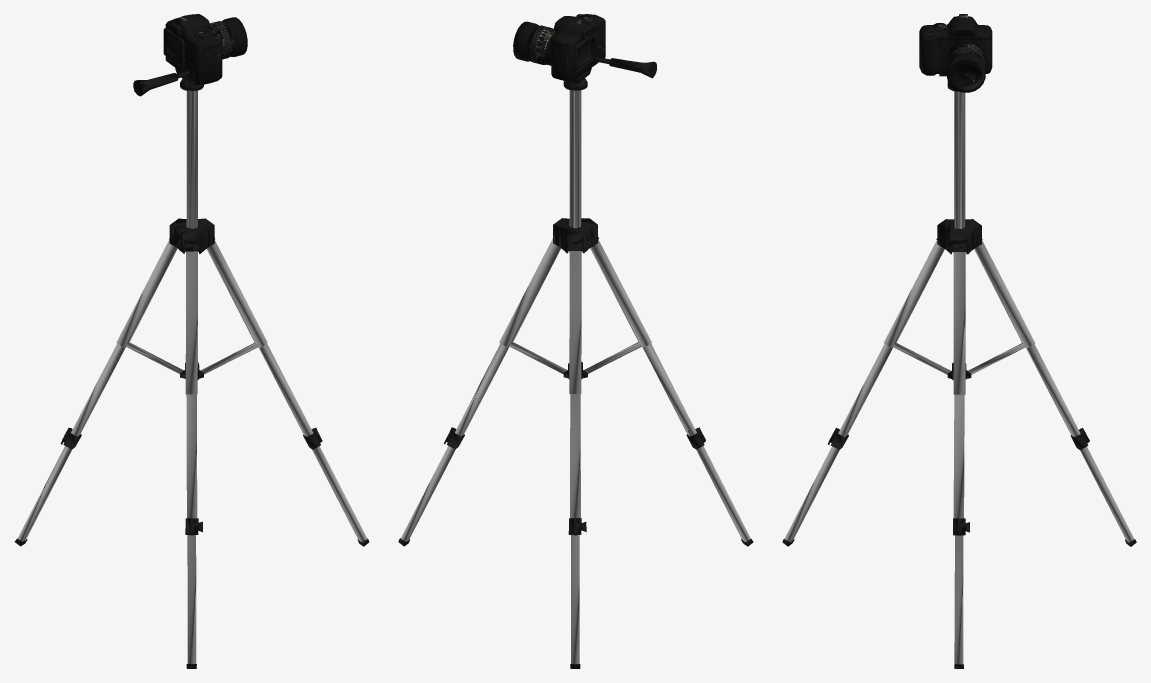
File: tripod_camera.glb
3 views of the same model, side by side, from view 1: azimuth 30°, elevation 25°; view 2: azimuth 150°, elevation 25°; view 3: azimuth 270°, elevation 25° (orthographic).
Visible parts, largest first — view 1: Tripod, Camera.001; view 2: Tripod, Camera.001; view 3: Tripod, Camera.001.
Boxes of the visible parts, <box> form: Tripod: <box>14,68,369,668</box>; Camera.001: <box>163,14,247,85</box>; Tripod: <box>398,57,753,668</box>; Camera.001: <box>513,14,605,81</box>; Tripod: <box>782,24,1136,668</box>; Camera.001: <box>919,14,992,92</box>.
Size of the model in its own units: 0.5395 by 1.1 by 0.622.
3 materials, 1 textured.
